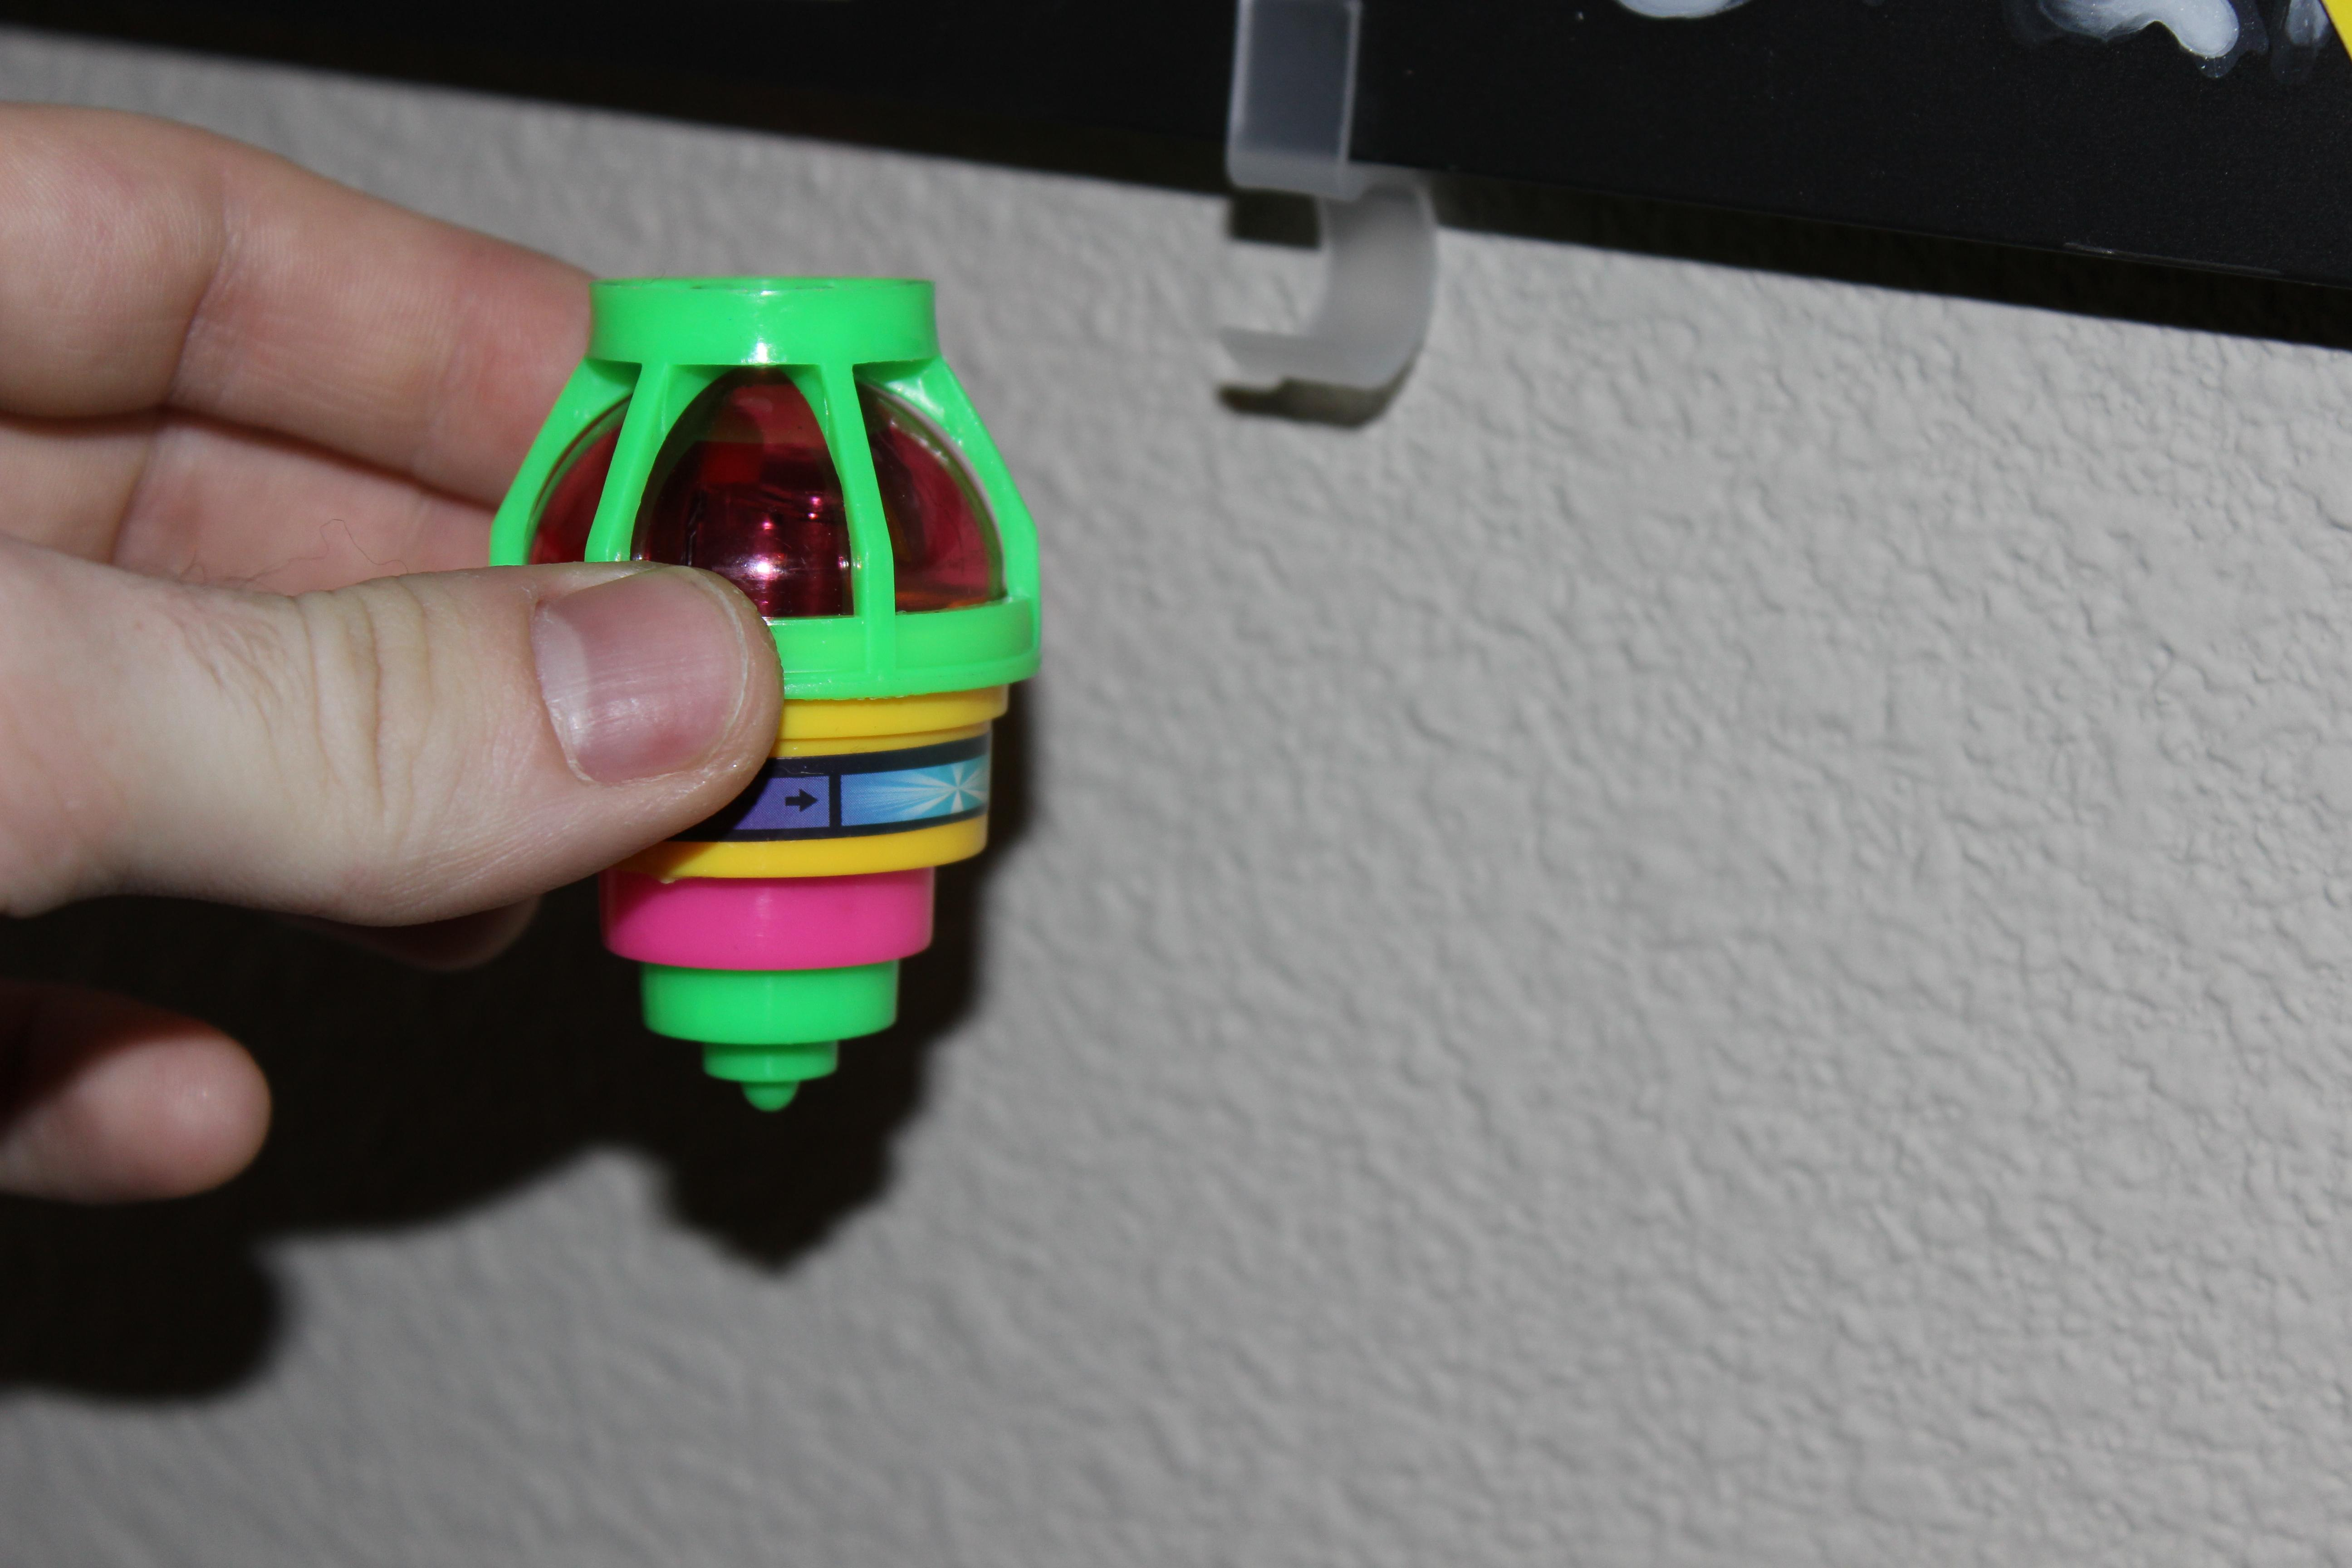gyroscope: (458, 259, 1085, 1141)
